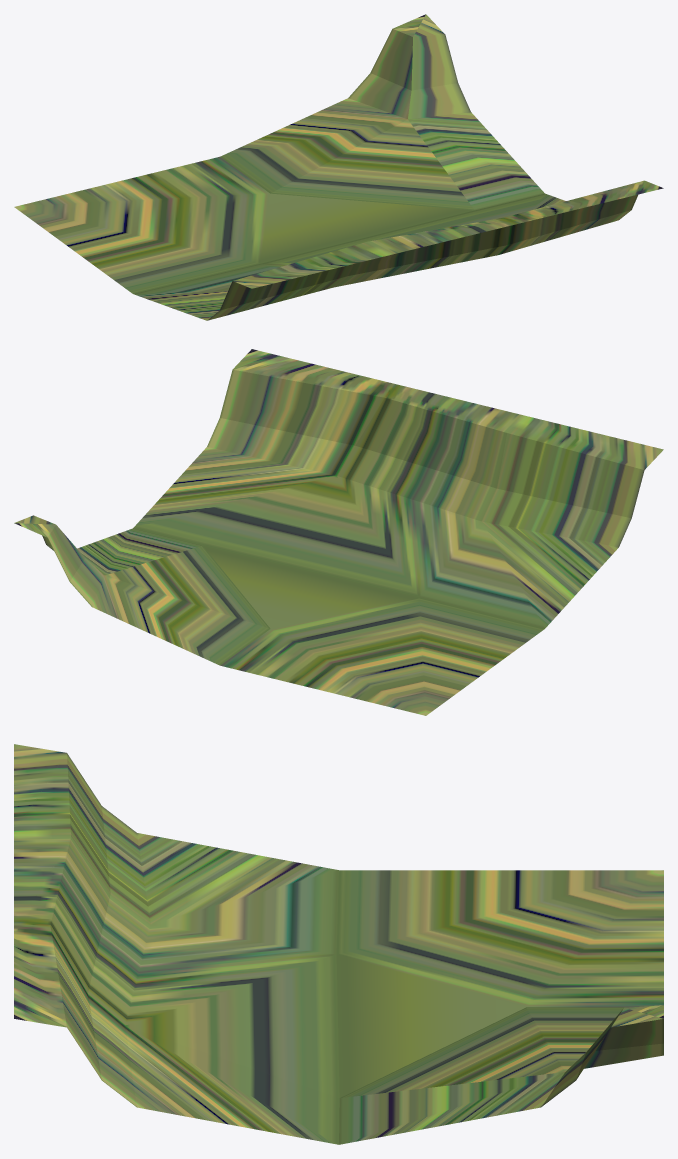
File: Mesh_WaterTileTRight.fbx
3 renders of one model, top to bottom at view 1: azimuth 30°, elevation 25°; view 2: azimuth 150°, elevation 25°; view 3: azimuth 270°, elevation 25°, orthographic. The views are drawn at different scales.
Parts seen in each view (by area): view 1: WaterTileTRight; view 2: WaterTileTRight; view 3: WaterTileTRight.
Boxes of the visible parts, x1,y1,x2,y2 form: WaterTileTRight: (14,14,663,320); WaterTileTRight: (14,349,663,715); WaterTileTRight: (14,744,663,1144).
Size of the model in its own units: 10001 by 2140 by 10000.
